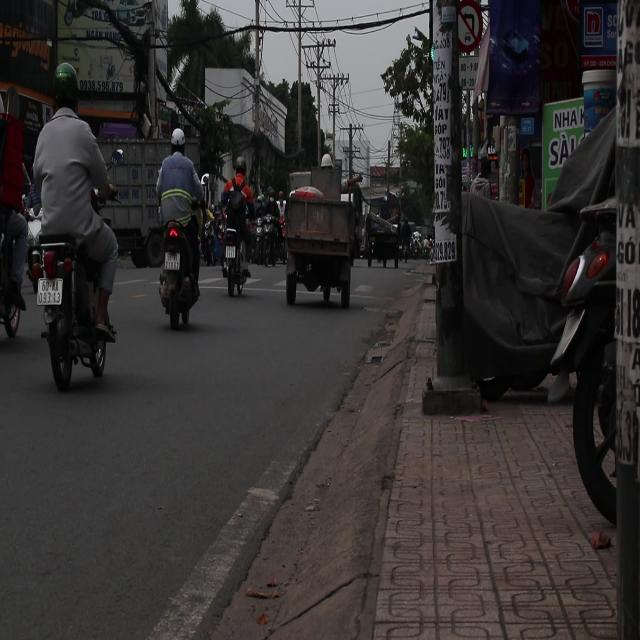car: (363, 212, 398, 266)
motorbike: (28, 228, 112, 392), (156, 210, 202, 330), (224, 222, 241, 300), (200, 216, 220, 267)
truck: (282, 182, 356, 323)
